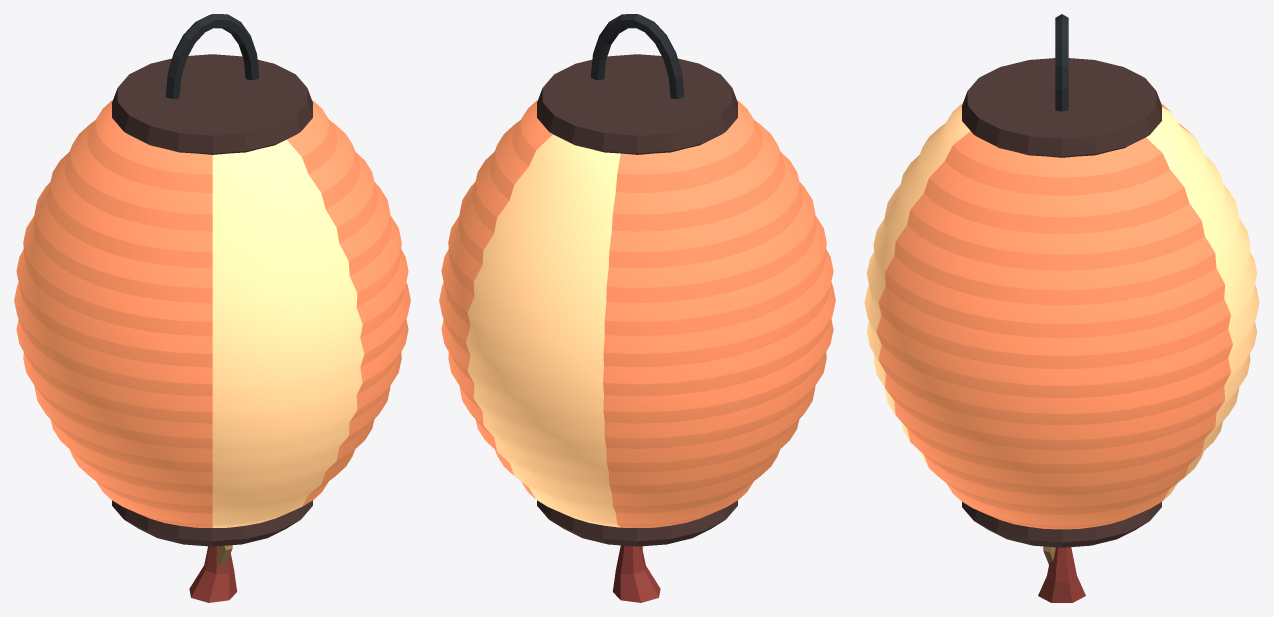
File: festival-lantern.glb
3 renders of one model, left to right at view 1: azimuth 30°, elevation 25°; view 2: azimuth 150°, elevation 25°; view 3: azimuth 270°, elevation 25°, orthographic.
Parts seen in each view (by area): view 1: Pleated washi shell, Wire rings, lacquered caps and tied tassel; view 2: Pleated washi shell, Wire rings, lacquered caps and tied tassel; view 3: Pleated washi shell, Wire rings, lacquered caps and tied tassel.
Boxes of the visible parts, x1=… form: Pleated washi shell: x1=14, y1=100, x2=410, y2=527; Wire rings, lacquered caps and tied tassel: x1=112, y1=14, x2=312, y2=602; Pleated washi shell: x1=439, y1=100, x2=835, y2=527; Wire rings, lacquered caps and tied tassel: x1=537, y1=14, x2=737, y2=602; Pleated washi shell: x1=864, y1=103, x2=1259, y2=529; Wire rings, lacquered caps and tied tassel: x1=962, y1=14, x2=1161, y2=602.
Size of the model in its own units: 0.56 by 0.901 by 0.56.
